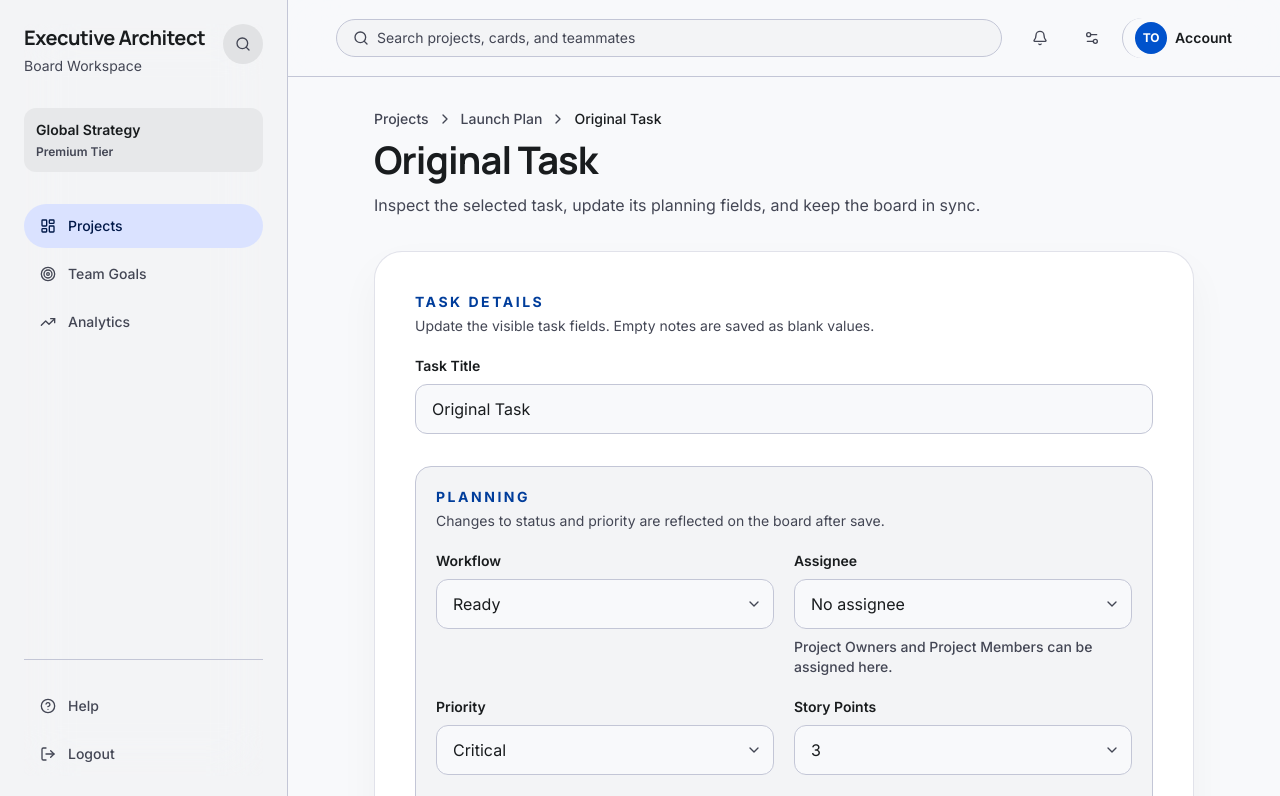
it: TaskDetailPage › shows legacy urgent priority as critical and can clear it
Step 1. Select "No priority" in the dropdown labelled "Priority" → (605, 750), box [436,725,774,775]
(page scrolled)
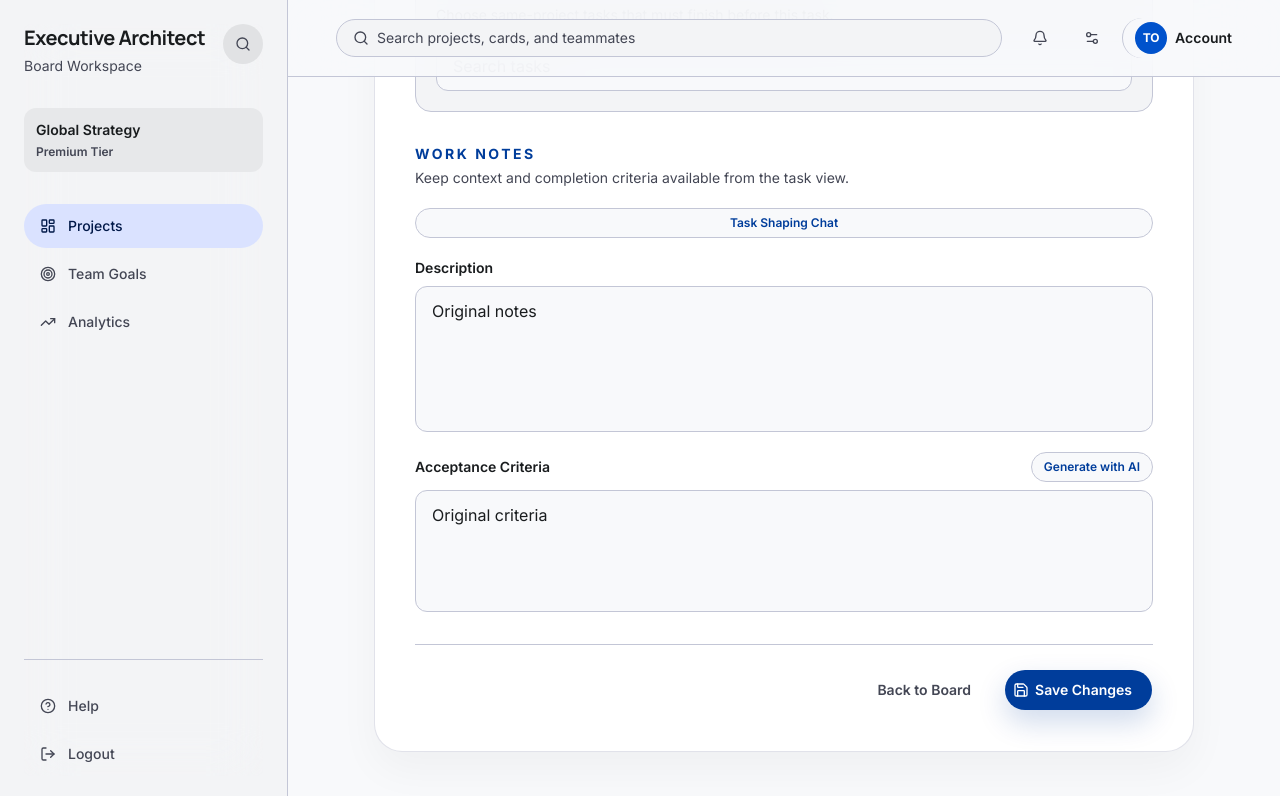
Step 2. Click the button "Save Changes" → click(1079, 690), box [1004,669,1153,711]
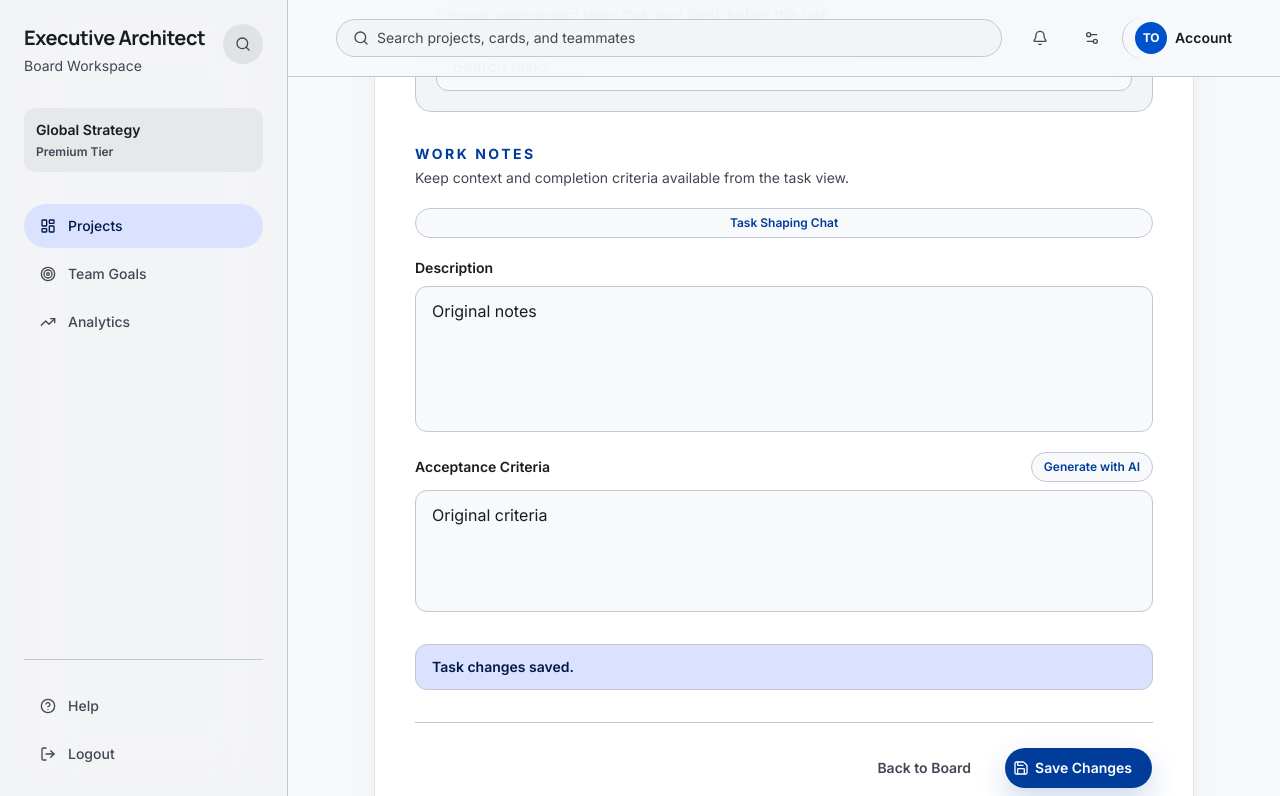
Result: the text "Task changes saved." is shown at [415,644,1153,690]
